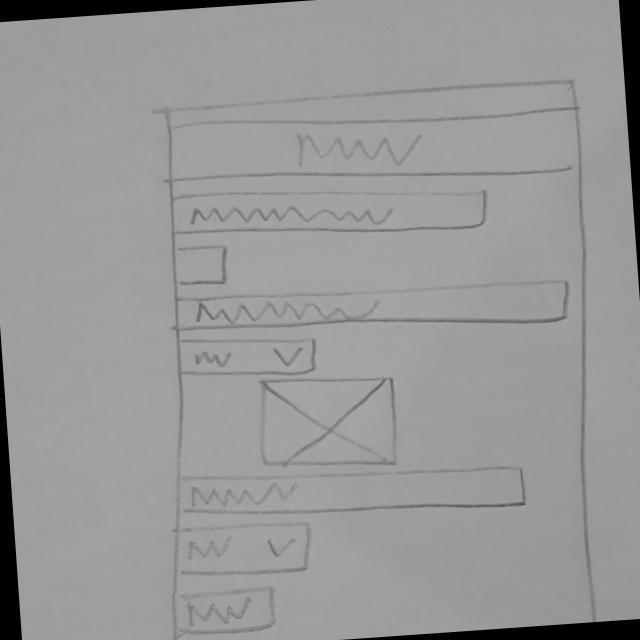container: (130, 75, 622, 640), (163, 240, 232, 290)
image: (248, 369, 407, 478)
input: (161, 93, 590, 197), (171, 268, 575, 348), (170, 451, 535, 532), (162, 173, 495, 252), (168, 583, 283, 640)
select: (171, 516, 318, 585), (167, 328, 325, 388)
